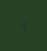four: (19, 19, 25, 31)
